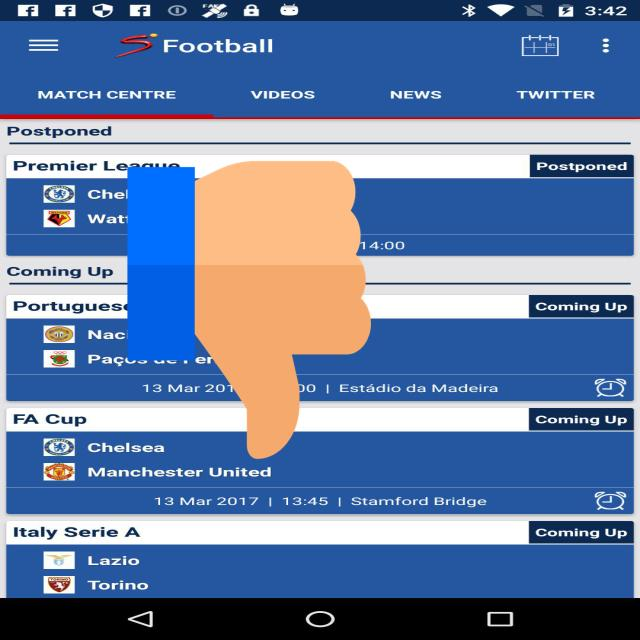obstruction: (127, 154, 371, 466)
